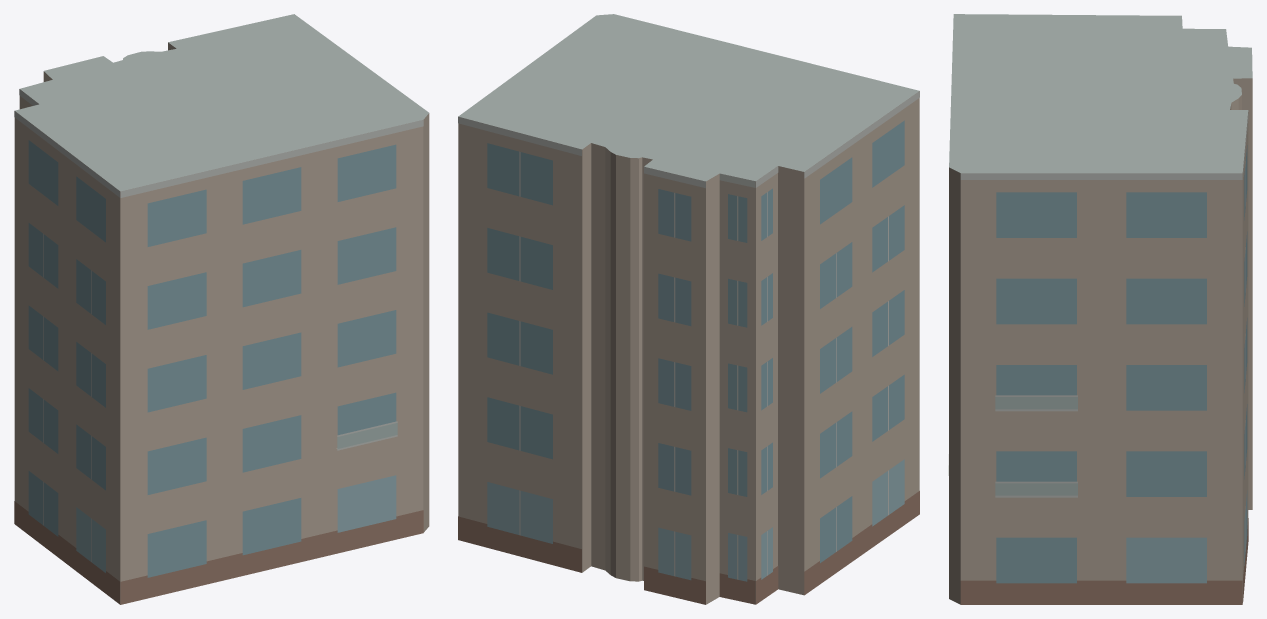
Rendered from survey-upis-32773383.glb.
3 renders of one model, left to right at view 1: azimuth 30°, elevation 25°; view 2: azimuth 150°, elevation 25°; view 3: azimuth 270°, elevation 25°, orthographic. The views are drawn at different scales.
Parts seen in each view (by area): view 1: survey-upis-32773383.tmp; view 2: survey-upis-32773383.tmp; view 3: survey-upis-32773383.tmp.
Part boxes in pixels (x1,y1,x2,y2): survey-upis-32773383.tmp: [14, 14, 429, 604]; survey-upis-32773383.tmp: [458, 14, 919, 604]; survey-upis-32773383.tmp: [948, 14, 1252, 604].
Bounding box in the file's own units: 12.11 × 15.25 × 9.75.
